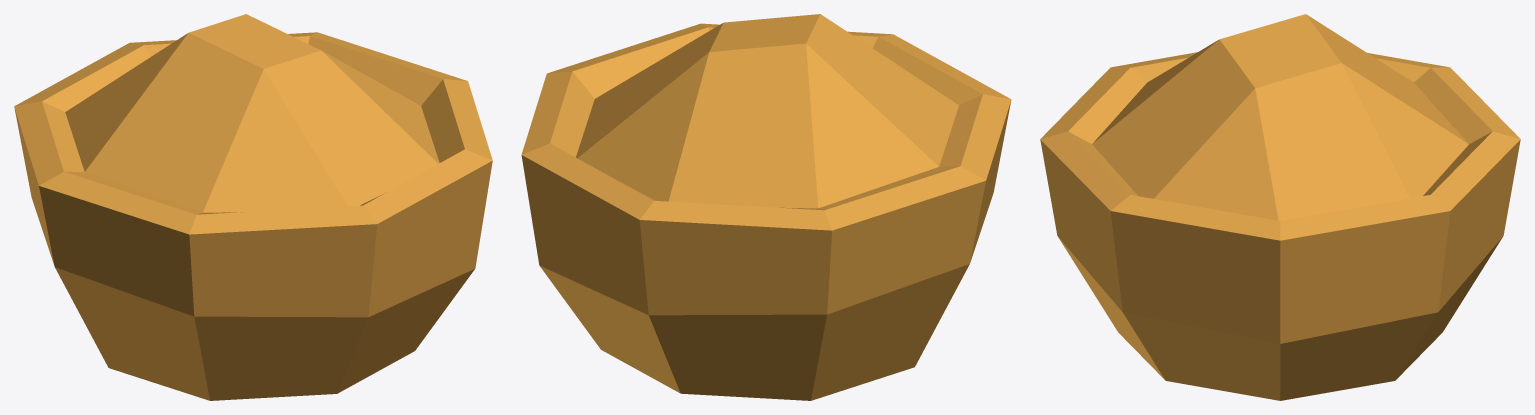
The model's file is egypt-egypt-bowl-spice-full.glb.
The picture shows the model from 3 angles, left to right: view 1: azimuth 30°, elevation 25°; view 2: azimuth 150°, elevation 25°; view 3: azimuth 270°, elevation 25°; orthographic projection. The views are drawn at different scales.
Visible parts, largest first — view 1: egypt-bowl-spice-full; view 2: egypt-bowl-spice-full; view 3: egypt-bowl-spice-full.
Boxes of the visible parts, x1,y1,x2,y2 form: egypt-bowl-spice-full: (14,14,492,400); egypt-bowl-spice-full: (521,14,1011,400); egypt-bowl-spice-full: (1040,14,1520,400).
Size of the model in its own units: 0.533 by 0.3597 by 0.533.
